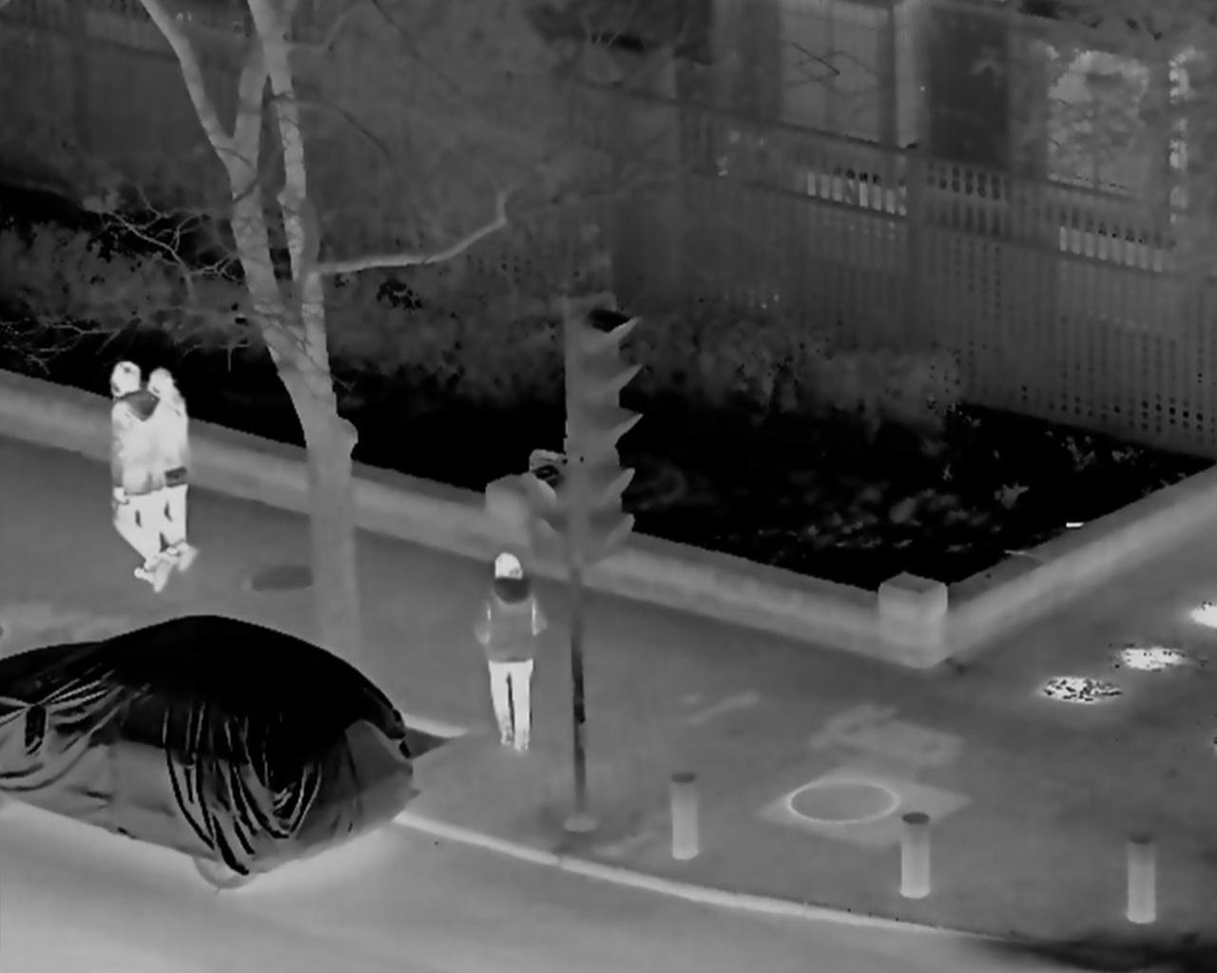person: (466, 551, 545, 756), (105, 361, 174, 591), (139, 369, 198, 573)
